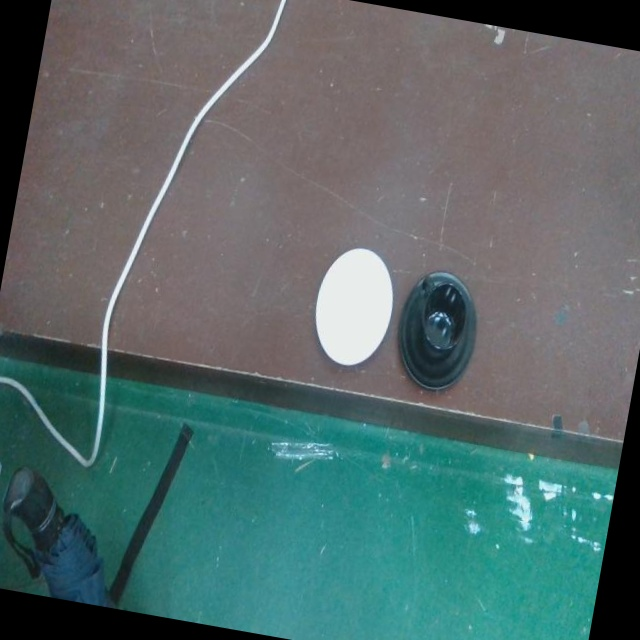black: (396, 267, 479, 397)
white: (316, 244, 394, 371)
